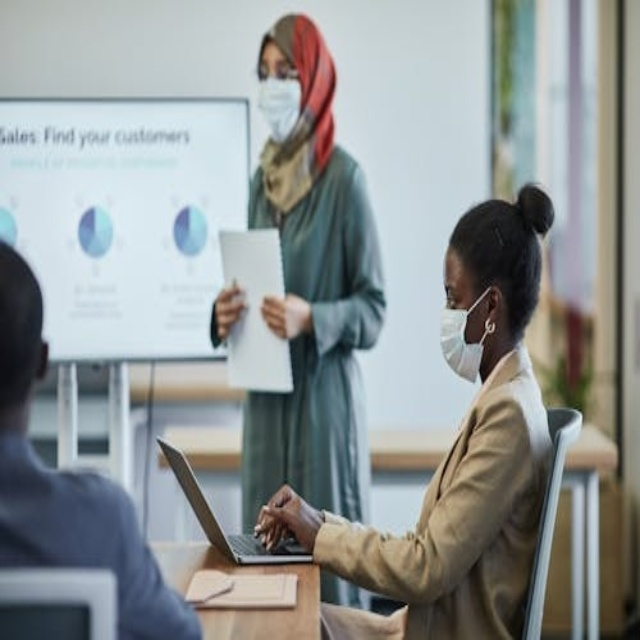Mascara: (439, 288, 492, 382), (256, 78, 303, 142)
Sin_gafas: (439, 269, 474, 308), (256, 54, 291, 79)
Sin_guantes: (256, 485, 322, 550), (260, 283, 306, 344), (212, 283, 248, 345)
